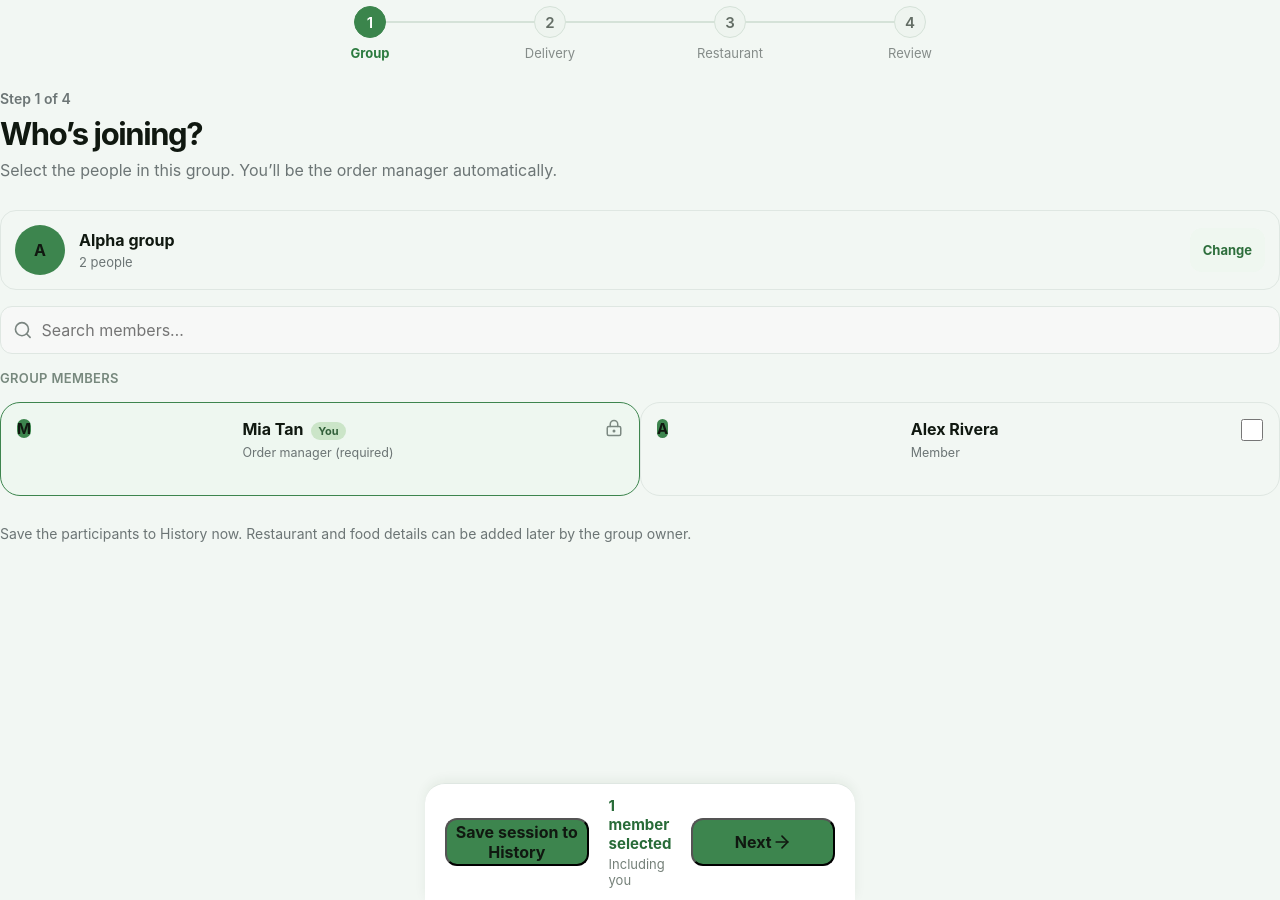
it: NewOrderWizard › blocks incomplete delivery details and does not submit on an earlier step
Submit the form
Click the button "Next".
click(763, 842)  # box [691, 818, 835, 866]
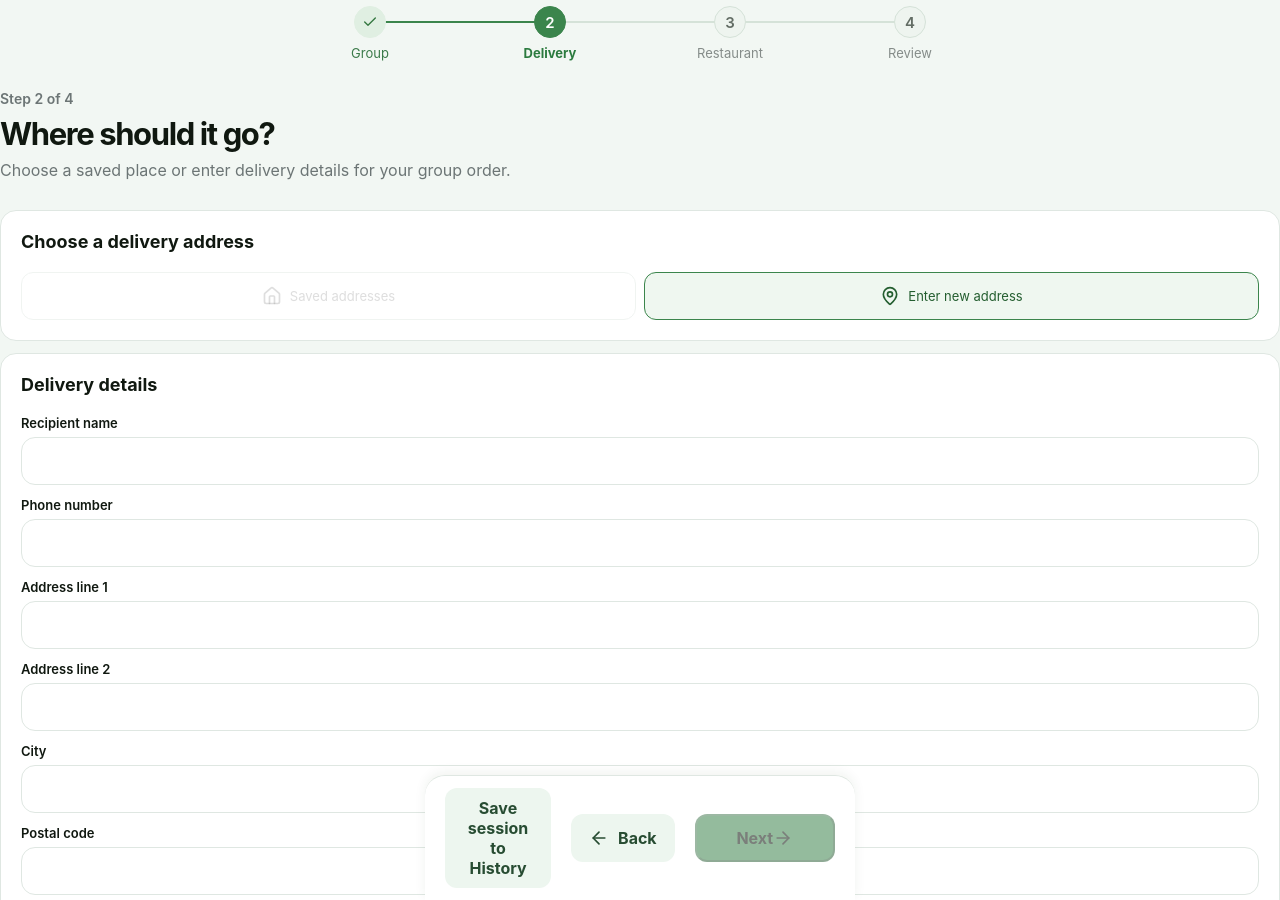
expect the button "Next" is disabled: met, box [695, 814, 835, 862]
